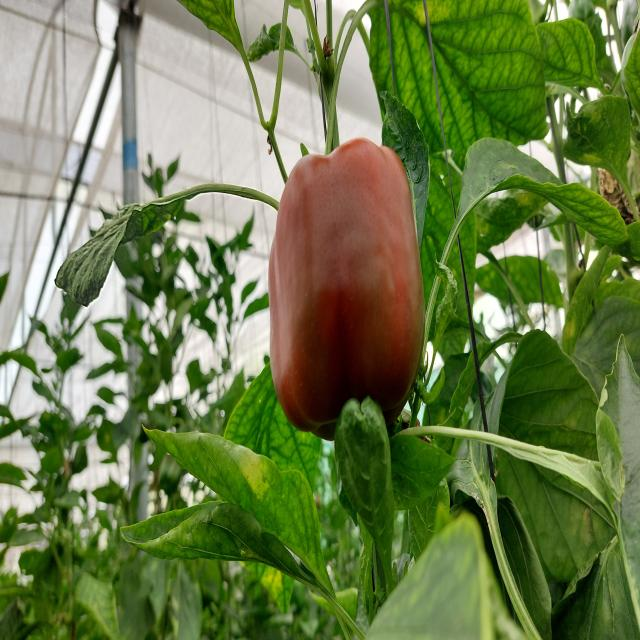Red-Ready-to-Harvest: (270, 150, 422, 420)
